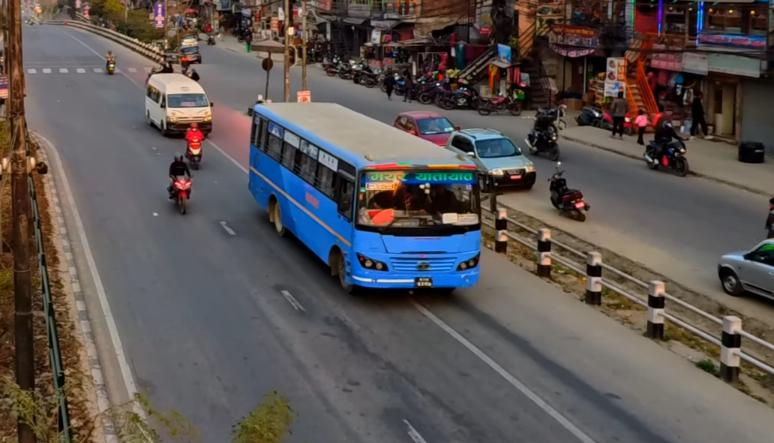bus: (245, 95, 485, 306)
